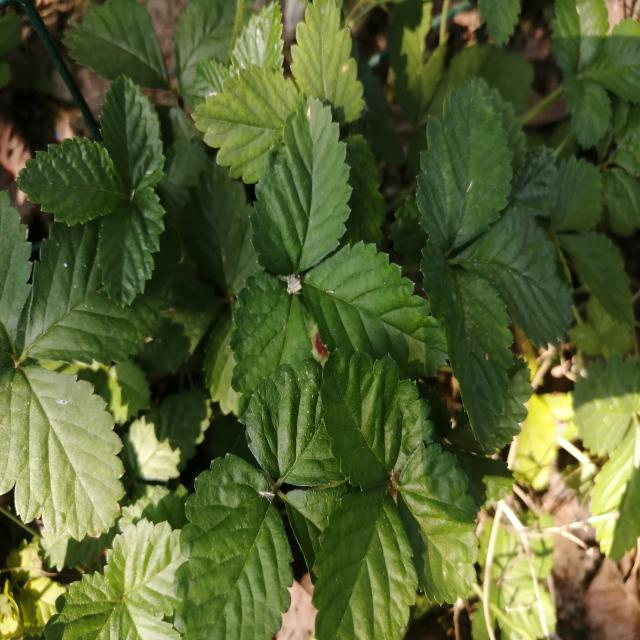Mock_strawberry: (161, 381, 478, 624), (220, 86, 438, 407), (419, 82, 567, 435)
